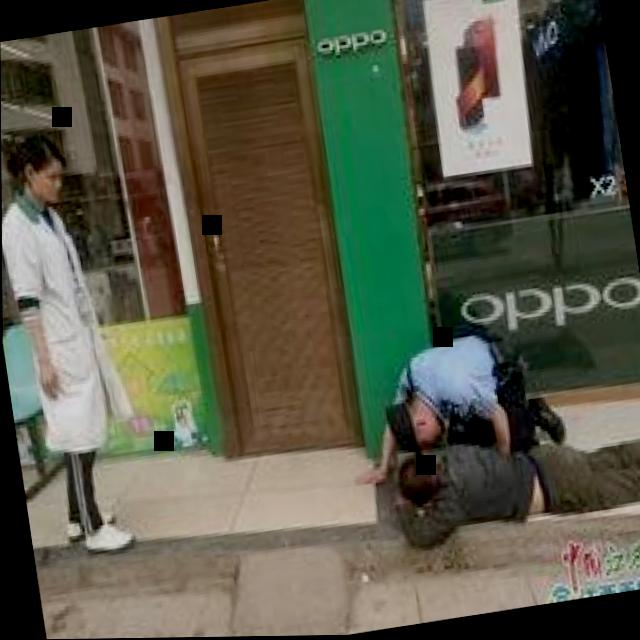Fall-Detected: (363, 395, 640, 556)
